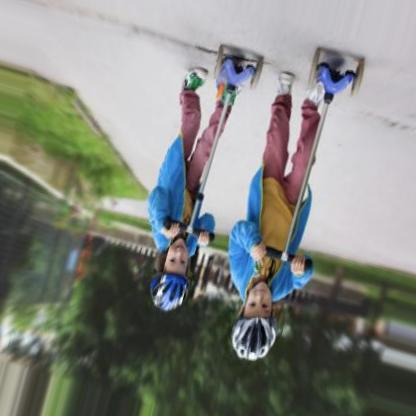scooter: (251, 44, 365, 272), (164, 43, 265, 246)
with helmet: (230, 280, 278, 361), (148, 238, 191, 312)
